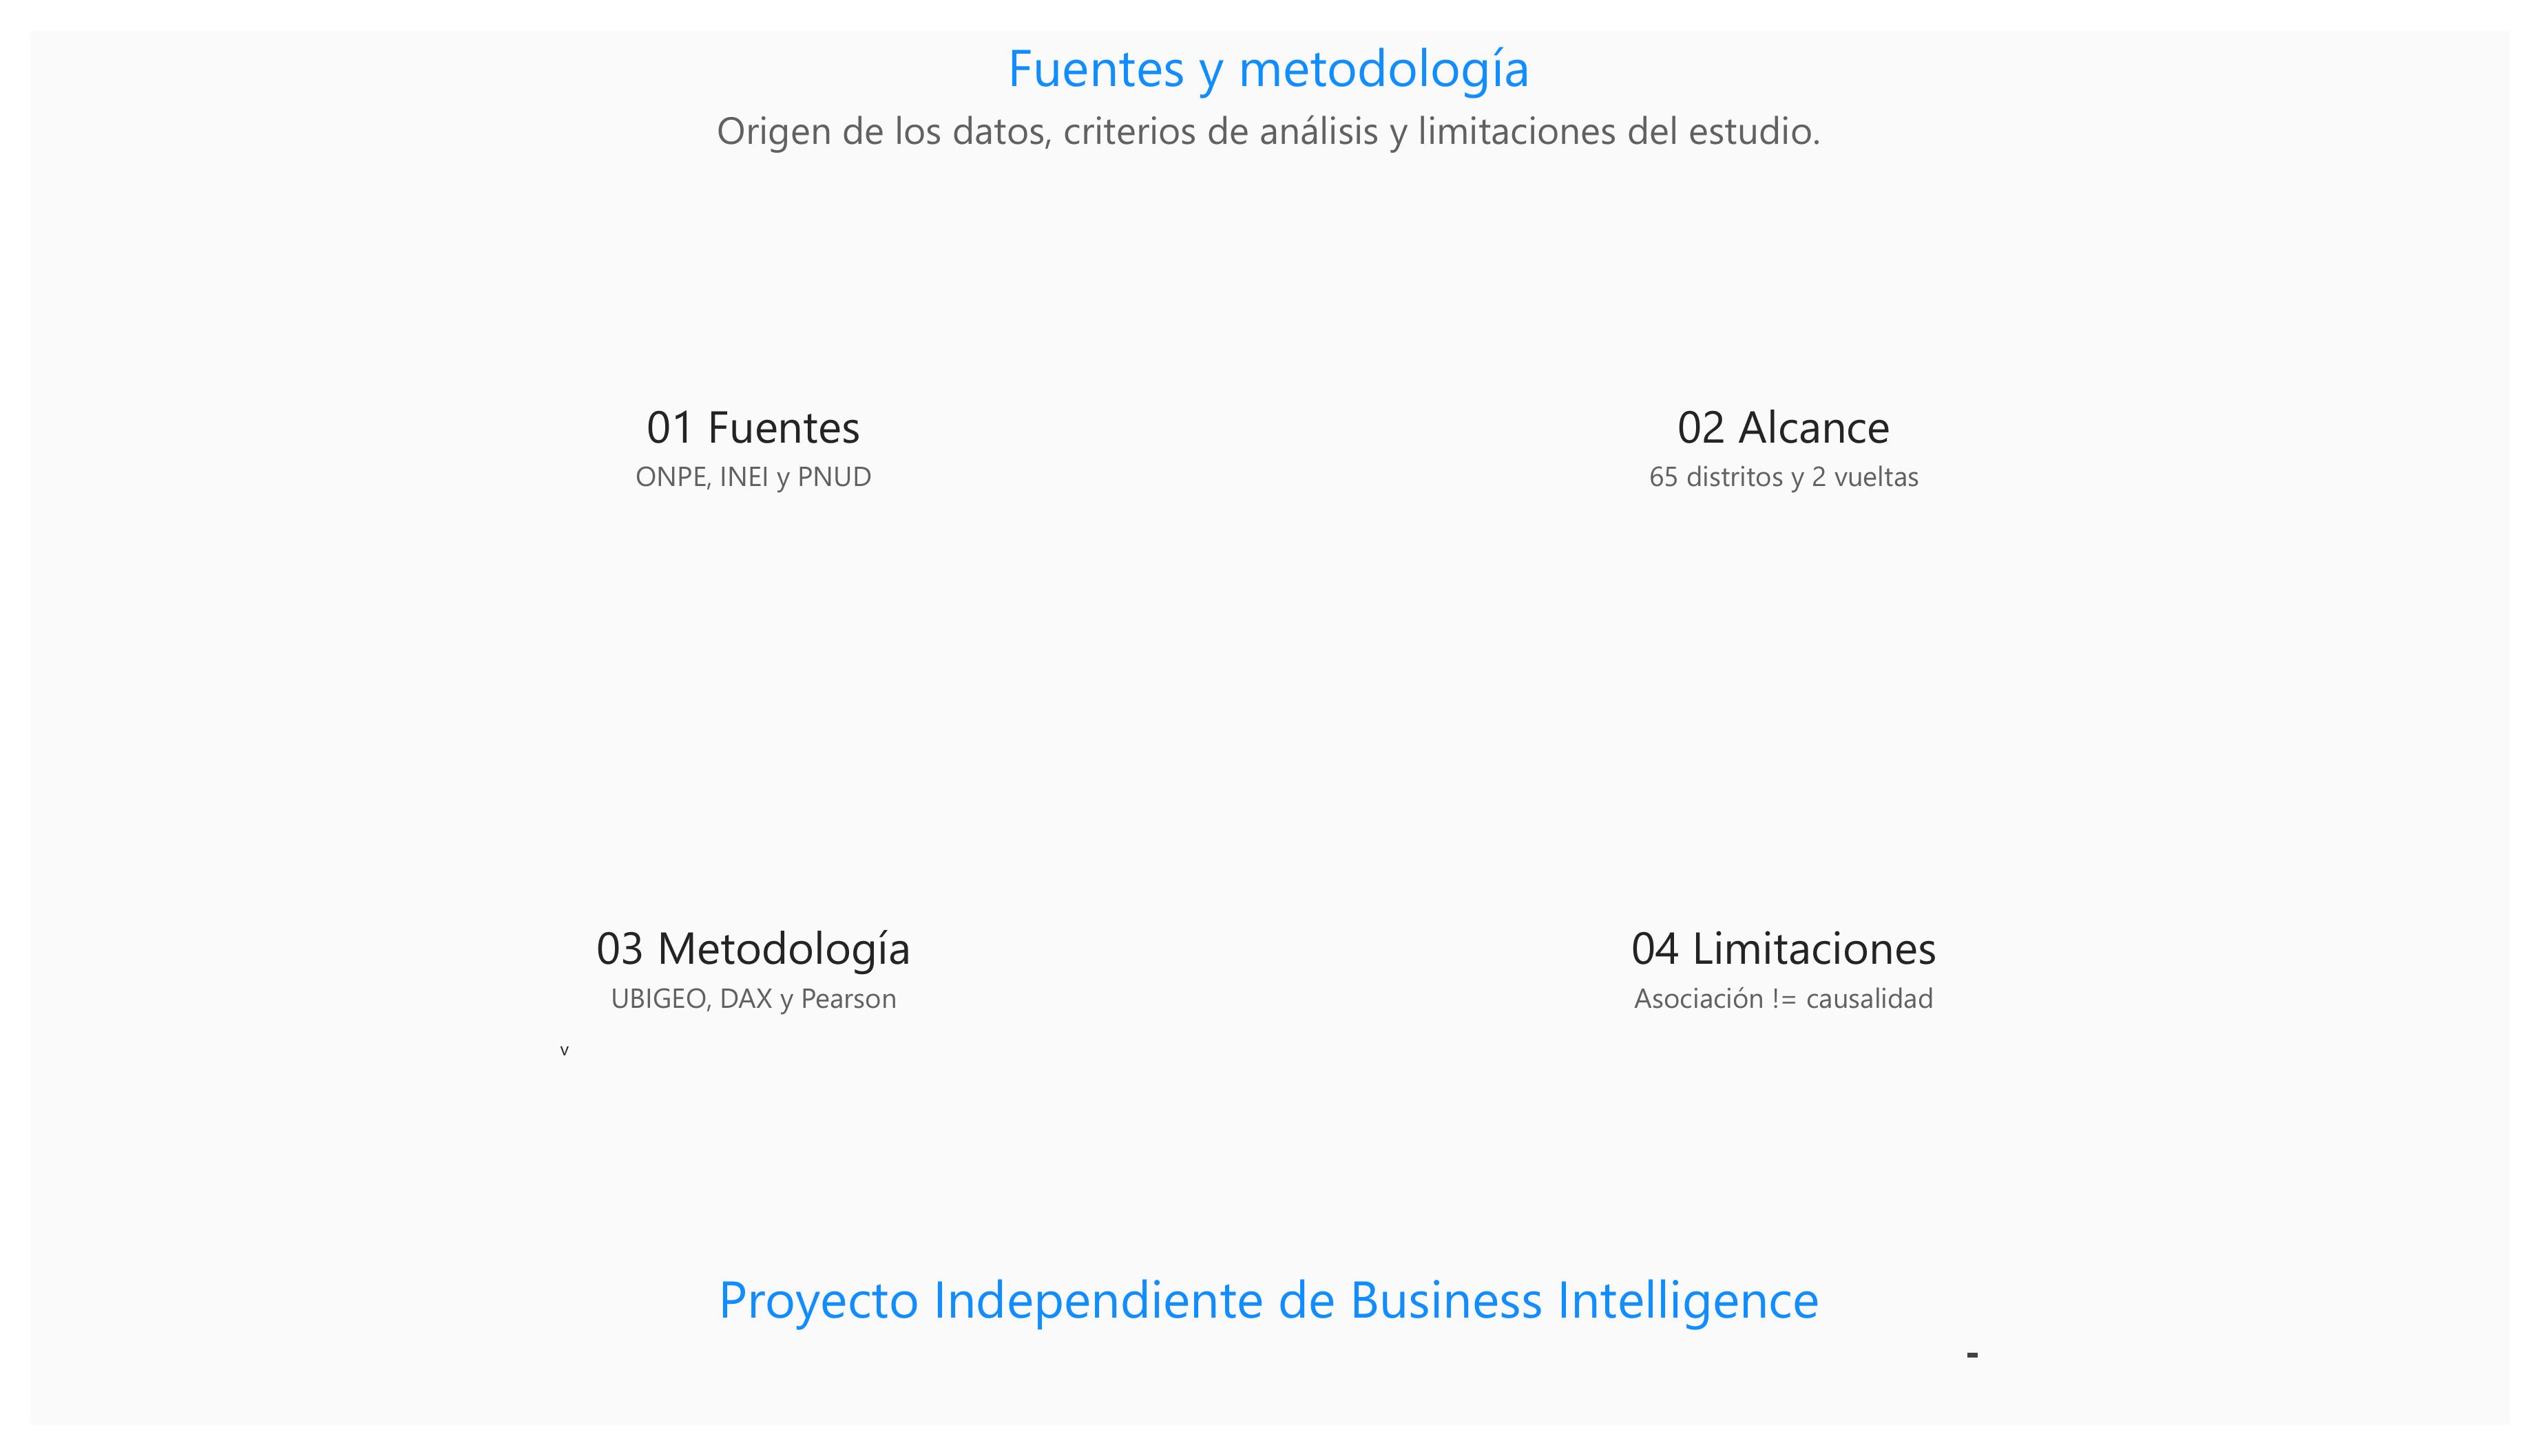

What the dashboard file says about the page in this screenshot:
{"tool":"powerbi","page":{"name":"06 — Fuentes y metodología","canvas":[1920,1080],"ordinal":5},"visuals":[{"type":"textbox","title":"Fuentes y metodología","box":[410,0,1098.3,141.7],"z":0},{"type":"textbox","title":"01 Fuentes","box":[410,282,300,116],"z":1},{"type":"textbox","title":"03 Metodología","box":[410,686,300,116],"z":2},{"type":"textbox","title":"02 Alcance","box":[1208,282,300,116],"z":3},{"type":"textbox","title":"04 Limitaciones","box":[1208,686,300,116],"z":4},{"type":"textbox","title":"Proyecto Independiente de Business Intelligence","box":[410,954,1098,74],"z":5}]}

Visuals, with their boxes in screenshot pixels (x1, y1, x2, y2), scaled from the page's 1920x1080 canvas onto the 2541x1456 screenshot:
"Fuentes y metodología" textbox: <region>543, 0, 1996, 191</region>
"01 Fuentes" textbox: <region>543, 380, 940, 536</region>
"03 Metodología" textbox: <region>543, 925, 940, 1082</region>
"02 Alcance" textbox: <region>1599, 380, 1996, 536</region>
"04 Limitaciones" textbox: <region>1599, 925, 1996, 1082</region>
"Proyecto Independiente de Business Intelligence" textbox: <region>543, 1286, 1996, 1386</region>
